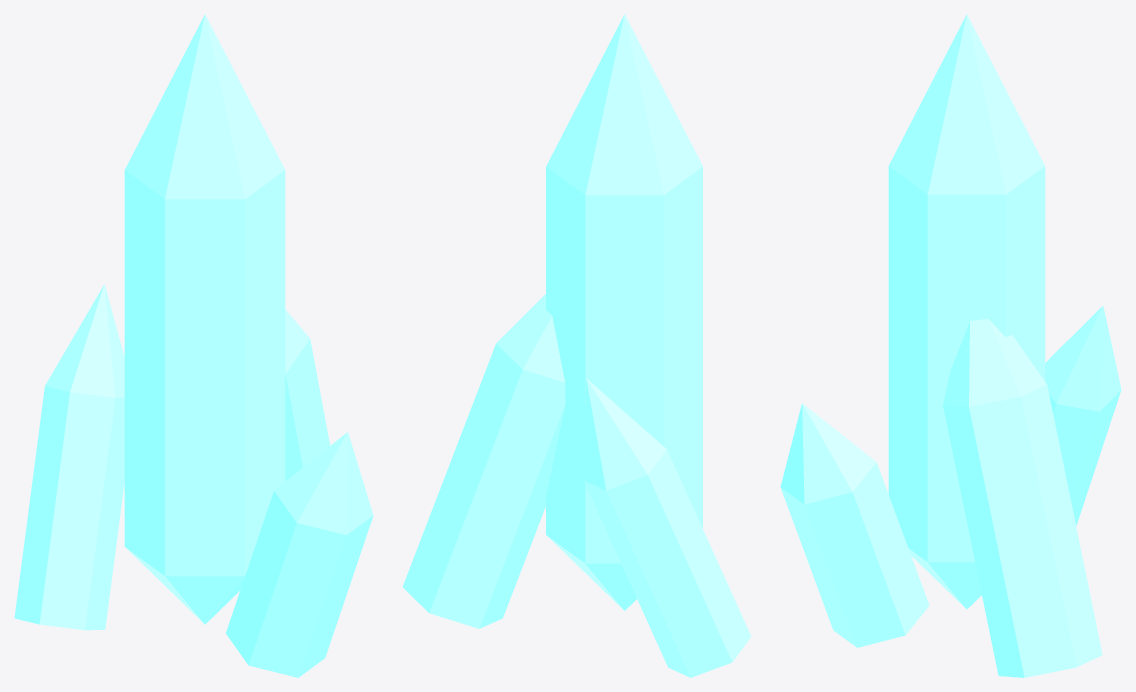
Rendered from crystal_cluster.glb.
3 views of the same model, side by side, from view 1: azimuth 30°, elevation 25°; view 2: azimuth 150°, elevation 25°; view 3: azimuth 270°, elevation 25° (orthographic). The views are drawn at different scales.
Parts seen in each view (by area): view 1: CrystalShard0Shaft; view 2: CrystalShard0Shaft; view 3: CrystalShard0Shaft.
Boxes of the visible parts, left/top/right/bottom form: CrystalShard0Shaft: left=14, top=14, right=373, bottom=677; CrystalShard0Shaft: left=402, top=14, right=751, bottom=677; CrystalShard0Shaft: left=780, top=14, right=1121, bottom=677.
Bounding box in the file's own units: 1.3 × 2.39 × 1.22.
